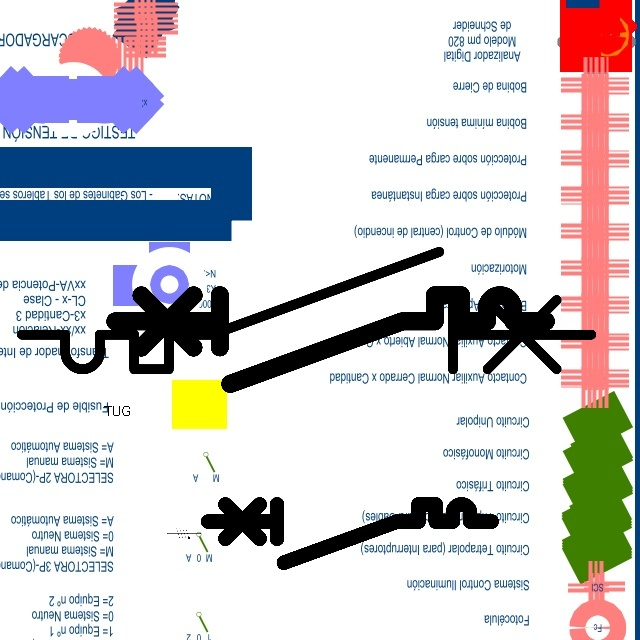interruptor_termomagnetico: (7, 237, 606, 384), (104, 284, 557, 395), (200, 497, 499, 570)
